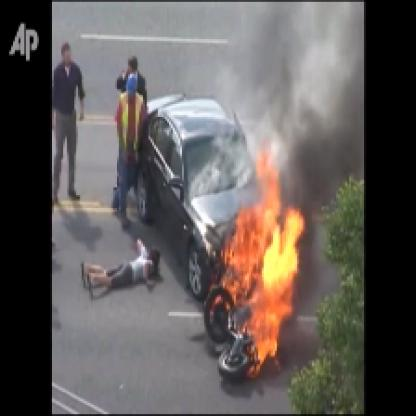Fire: (204, 136, 306, 380)
Smoke: (247, 2, 364, 208)
